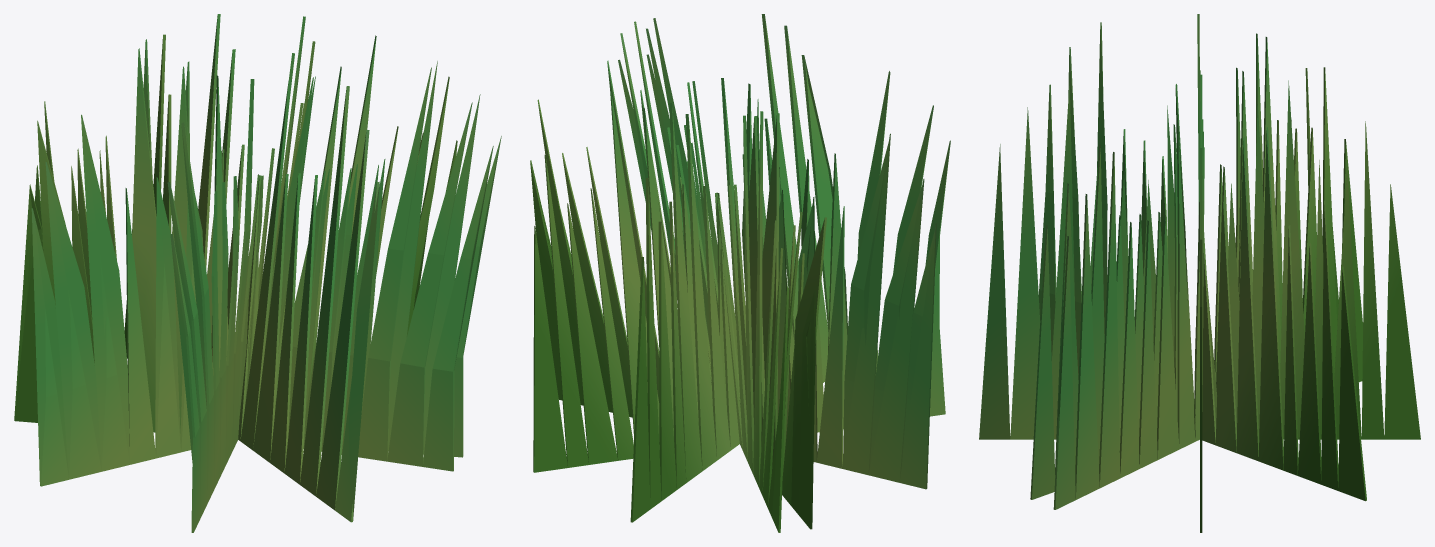
Rendered from Grass test 2.fbx.
3 views of the same model, side by side, from view 1: azimuth 30°, elevation 25°; view 2: azimuth 150°, elevation 25°; view 3: azimuth 270°, elevation 25° (orthographic). The views are drawn at different scales.
Parts seen in each view (by area): view 1: Plane; view 2: Plane; view 3: Plane.
Boxes of the visible parts, x1,y1,x2,y2 form: Plane: (14,14,501,532); Plane: (530,14,950,532); Plane: (979,14,1420,532).
Bounding box in the file's own units: 215 × 189 × 200.
